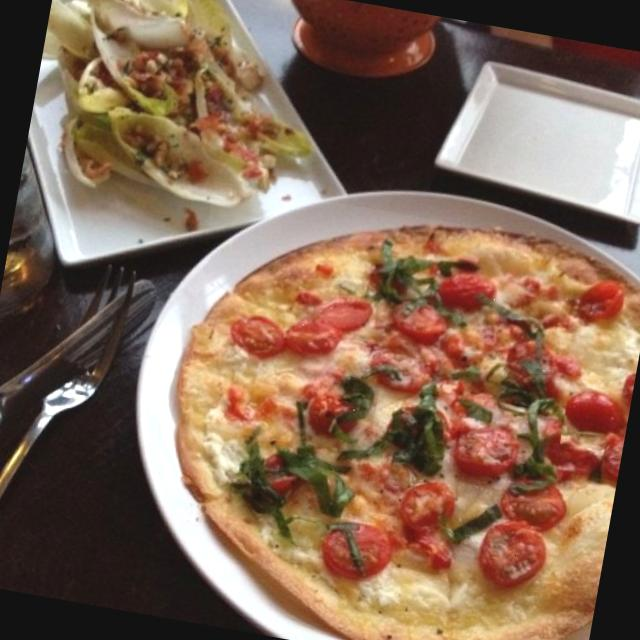basil: (367, 386, 461, 493), (224, 433, 312, 532), (497, 363, 571, 469), (277, 437, 367, 524), (476, 288, 567, 369), (358, 236, 443, 322), (432, 473, 516, 558), (419, 337, 491, 418), (322, 374, 380, 460)
pizza: (177, 226, 640, 640)
tomato: (271, 283, 380, 373), (378, 462, 461, 576), (463, 515, 561, 607), (313, 506, 402, 586), (494, 460, 576, 546), (295, 369, 378, 452), (444, 415, 516, 491), (372, 284, 449, 354), (421, 266, 507, 325), (565, 267, 628, 339), (536, 430, 623, 481), (560, 391, 630, 448), (362, 337, 430, 395), (222, 299, 282, 356)
